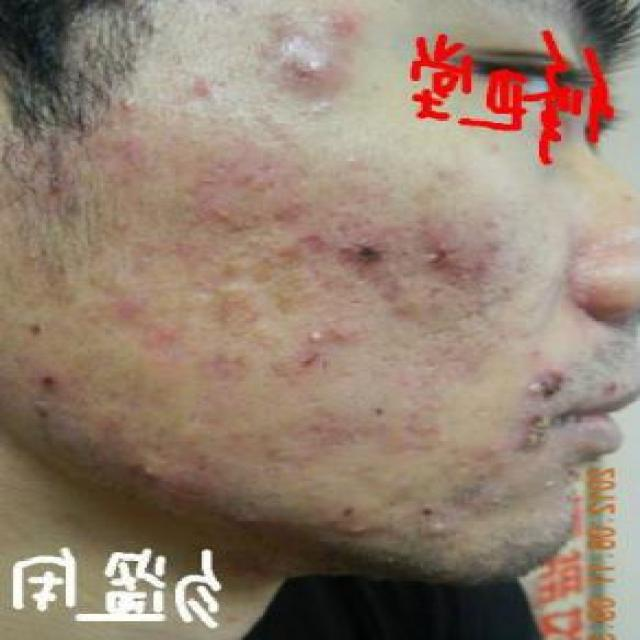blackheads: (329, 220, 401, 275), (20, 357, 70, 401), (11, 304, 55, 344), (401, 488, 449, 523)
nodules: (246, 40, 355, 98)
pustules: (292, 320, 338, 349)
